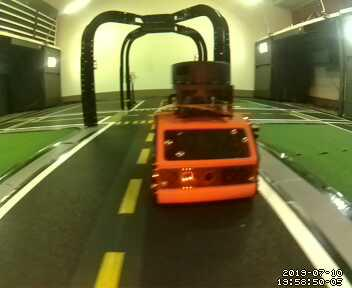pheeno: (149, 60, 264, 208)
